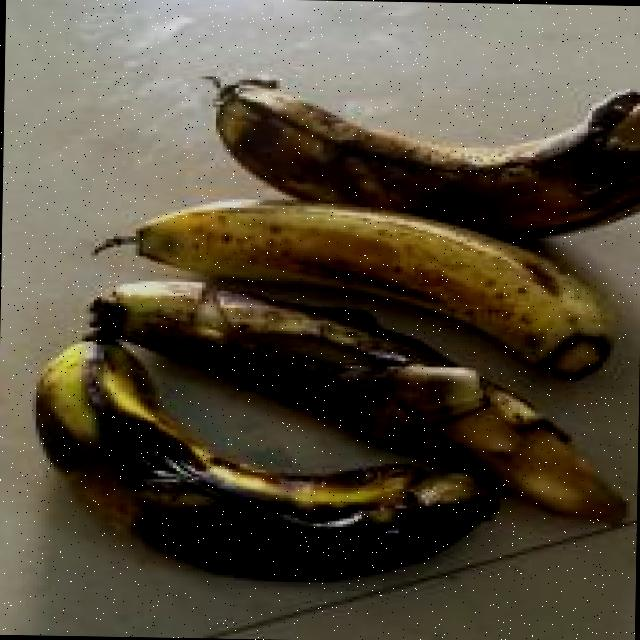Rotten: (6, 312, 640, 592), (143, 58, 640, 236)
